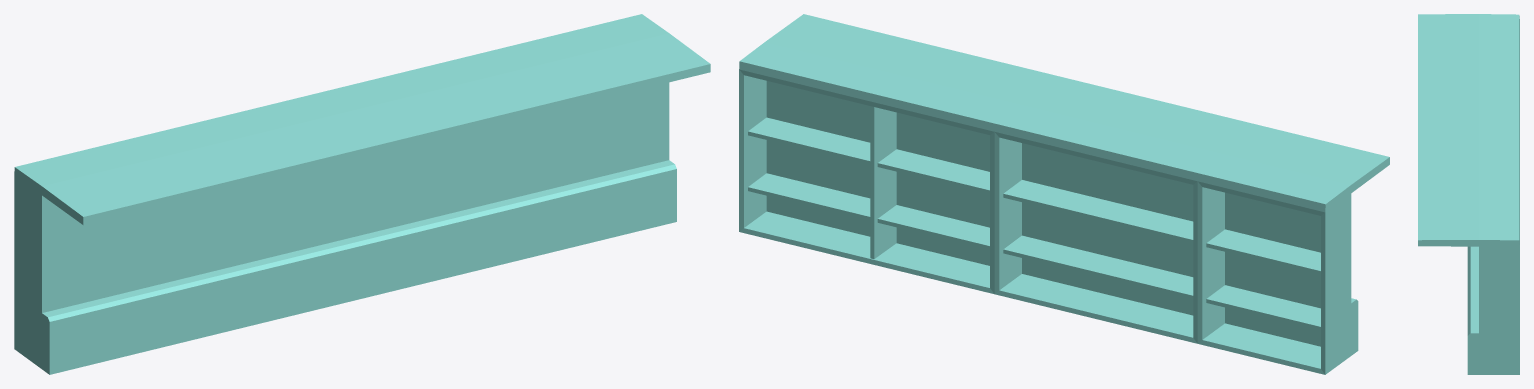
File: DinerBarLong_Collision.fbx
The picture shows the model from 3 angles, left to right: view 1: azimuth 30°, elevation 25°; view 2: azimuth 150°, elevation 25°; view 3: azimuth 270°, elevation 25°; orthographic projection. The views are drawn at different scales.
Parts seen in each view (by area): view 1: DinerBarLong_Collision; view 2: DinerBarLong_Collision; view 3: DinerBarLong_Collision.
Part boxes in pixels (<box>): DinerBarLong_Collision: <box>14,14,710,374</box>; DinerBarLong_Collision: <box>739,14,1389,374</box>; DinerBarLong_Collision: <box>1418,14,1519,374</box>.
Bounding box in the file's own units: 3.52 × 0.9815 × 0.6714.
